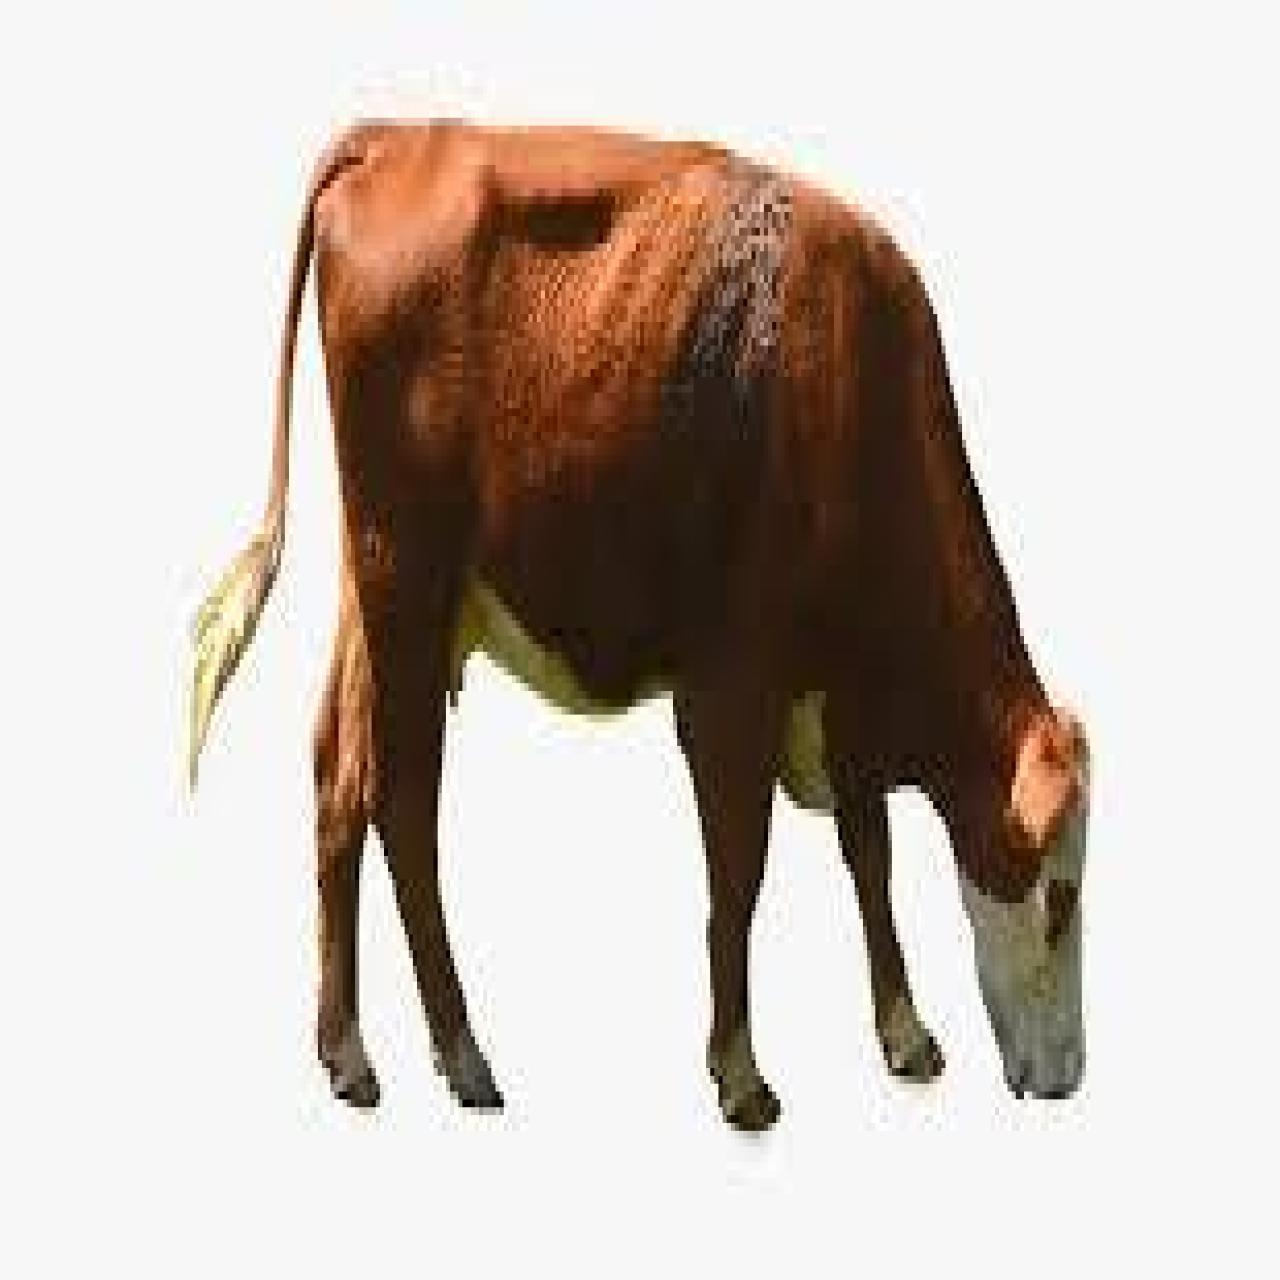cow: (196, 118, 1092, 1131)
